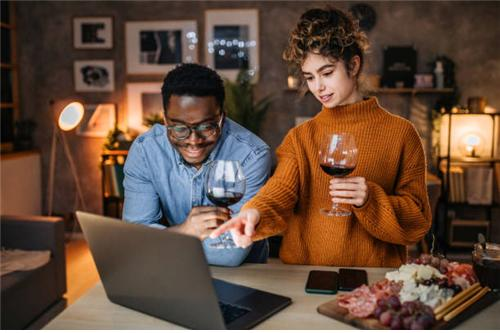alcohol: (316, 132, 360, 218), (202, 159, 247, 209)
